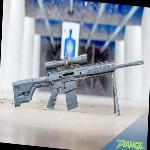Senapan: (4, 48, 150, 122)
